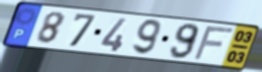4: (98, 15, 128, 54)
7: (67, 12, 100, 49)
8: (36, 10, 67, 45)
9: (167, 22, 202, 61), (130, 19, 163, 57)
F: (191, 25, 237, 62)
